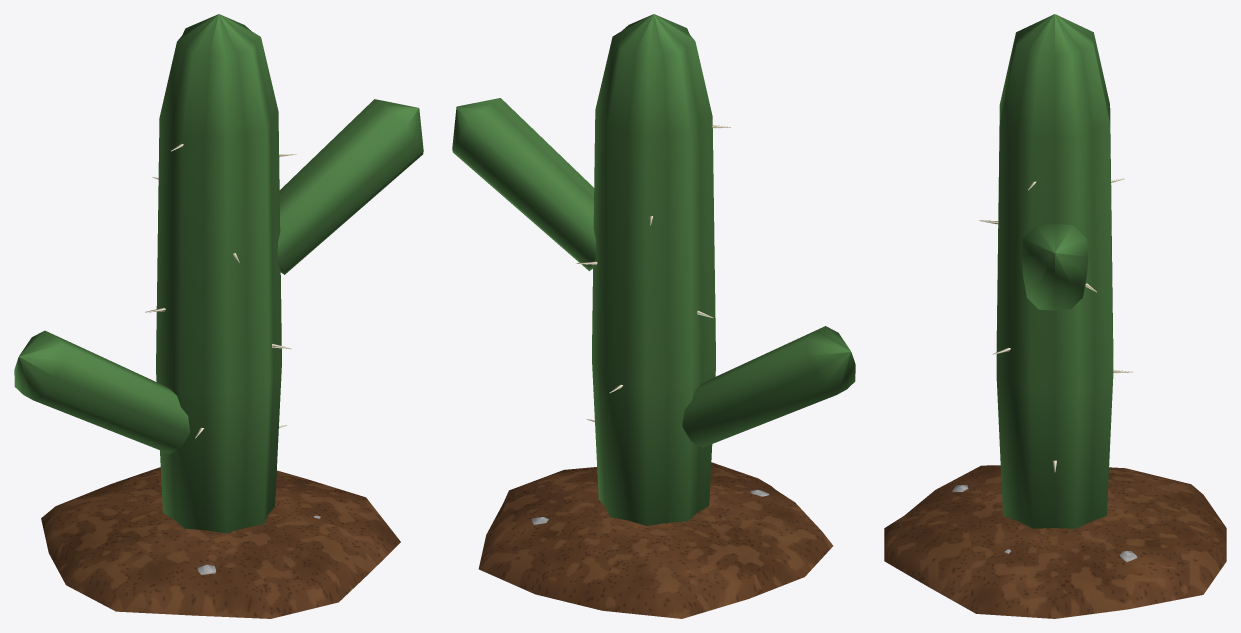
File: plant-dragon-3.glb
3 views of the same model, side by side, from view 1: azimuth 30°, elevation 25°; view 2: azimuth 150°, elevation 25°; view 3: azimuth 270°, elevation 25° (orthographic).
Parts seen in each view (by area): view 1: plant-dragon-3; view 2: plant-dragon-3; view 3: plant-dragon-3.
Part boxes in pixels (box(x1,y1,x2,y2)): plant-dragon-3: box(14, 14, 423, 618); plant-dragon-3: box(452, 14, 855, 618); plant-dragon-3: box(884, 14, 1226, 618).
Size of the model in its own units: 1.1 by 1.4 by 0.8189.
4 materials, 2 textured.
